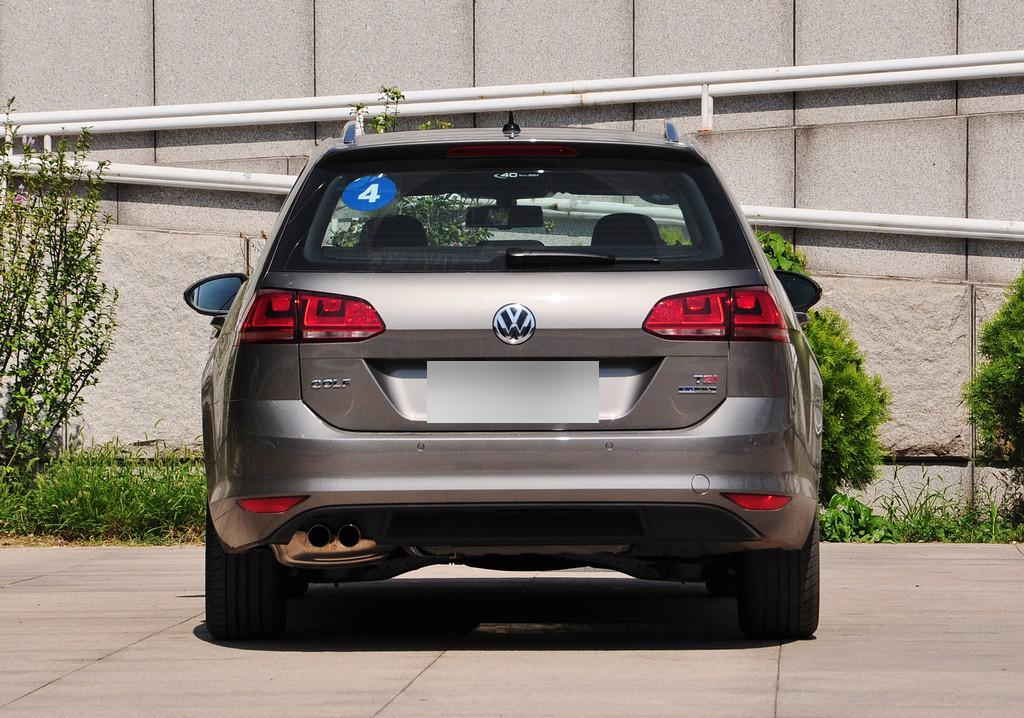Wagon: (184, 110, 825, 636)
